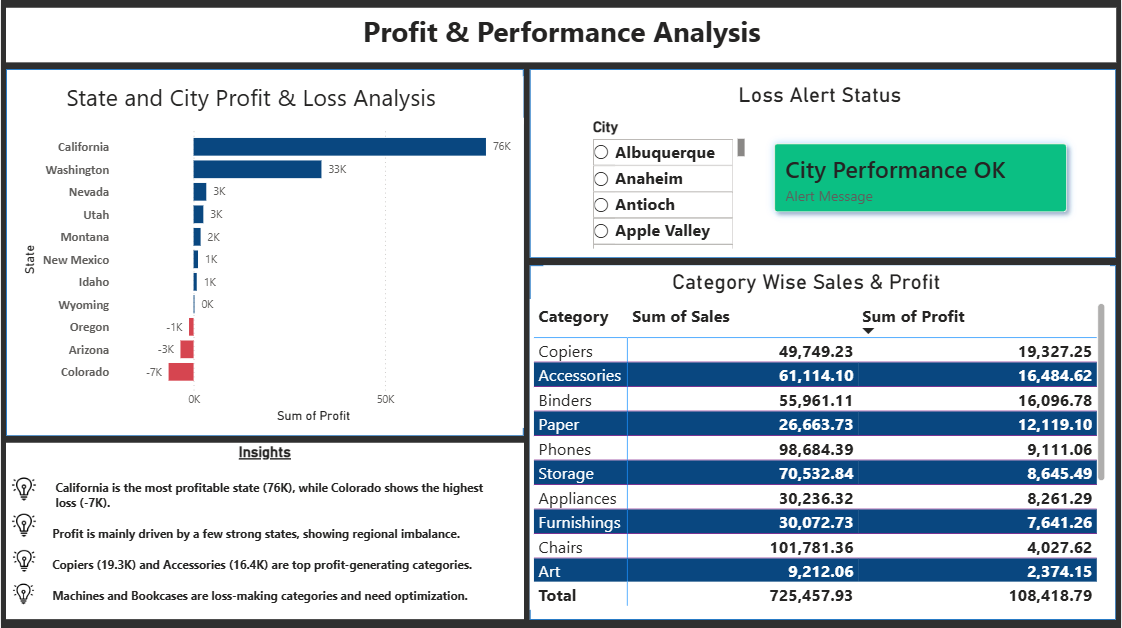

The dashboard page shown, as its layout file describes it:
{"tool":"powerbi","page":{"name":"Page 2","canvas":[1280,720],"ordinal":1},"visuals":[{"type":"textbox","box":[5.7,10,1268.6,62.6],"z":0},{"type":"shape","box":[5.7,79.6,591.6,419.6],"z":1000},{"type":"clusteredBarChart","fields":{"Y":["Sum(walmart.Profit)"],"Category":["walmart.City","walmart.State"]},"box":[19.9,135.1,577.4,354.1],"z":2000},{"type":"shape","box":[604.4,304.4,669.9,405.3],"z":3000},{"type":"pivotTable","fields":{"Rows":["walmart.Category"],"Values":["Sum(walmart.Sales)","Sum(walmart.Profit)"]},"box":[604.4,342.8,662.8,355.6],"z":4000},{"type":"shape","box":[604.4,79.6,669.9,216.2],"z":5000},{"type":"listSlicer","fields":{"Values":["walmart.City"]},"box":[671.3,135.1,183.5,155],"z":6000},{"type":"cardVisual","fields":{"Data":["walmart.Alert Message"]},"box":[854.8,135.1,394,138],"z":7000},{"type":"textbox","box":[11.4,88.2,586,54],"z":9000},{"type":"textbox","box":[620.1,304.4,647.1,38.4],"z":10000},{"type":"textbox","box":[640,89.6,620.1,45.5],"z":11000},{"type":"textbox","title":"Insights","box":[5.7,507.7,591.6,202],"z":11500},{"type":"image","box":[5.7,667,39.8,25.6],"z":12000},{"type":"image","box":[12.8,621.5,27,41.2],"z":13000},{"type":"image","box":[1.4,587.4,49.8,28.4],"z":14000},{"type":"image","box":[1.4,546.1,49.8,28.4],"z":15000}]}

Visuals, with their boxes in screenshot pixels (x1, y1, x2, y2), scaled from the page's 1280x720 canvas onto the 1122x628 screenshot:
textbox: bbox(5, 9, 1117, 63)
shape: bbox(5, 69, 524, 435)
clusteredBarChart - Sum(walmart.Profit) x walmart.City: bbox(17, 118, 524, 427)
shape: bbox(530, 266, 1117, 619)
pivotTable - walmart.Category x Sum(walmart.Sales): bbox(530, 299, 1111, 609)
shape: bbox(530, 69, 1117, 258)
listSlicer - walmart.City: bbox(588, 118, 749, 253)
cardVisual - walmart.Alert Message: bbox(749, 118, 1095, 238)
textbox: bbox(10, 77, 524, 124)
textbox: bbox(544, 266, 1111, 299)
textbox: bbox(561, 78, 1105, 118)
"Insights" textbox: bbox(5, 443, 524, 619)
image: bbox(5, 582, 40, 604)
image: bbox(11, 542, 35, 578)
image: bbox(1, 512, 45, 537)
image: bbox(1, 476, 45, 501)
